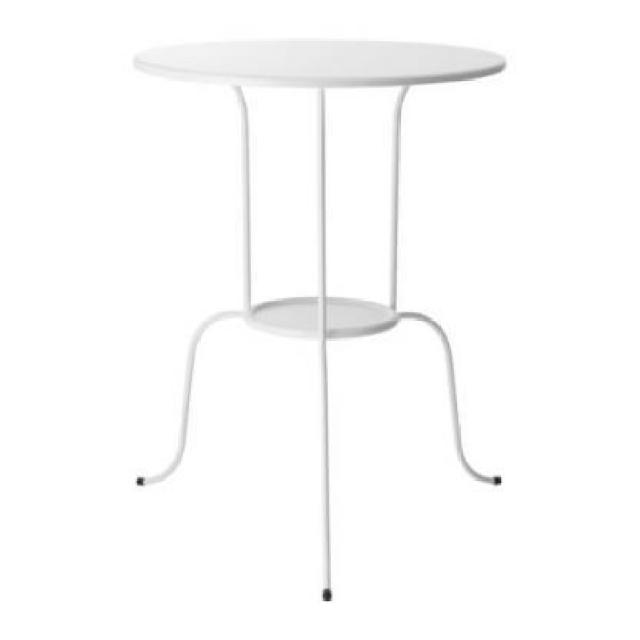tables: (129, 37, 508, 600)
